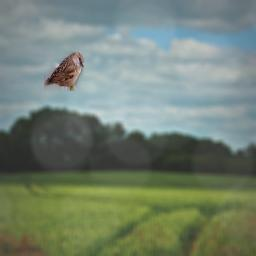Sparrow: (44, 51, 84, 91)
